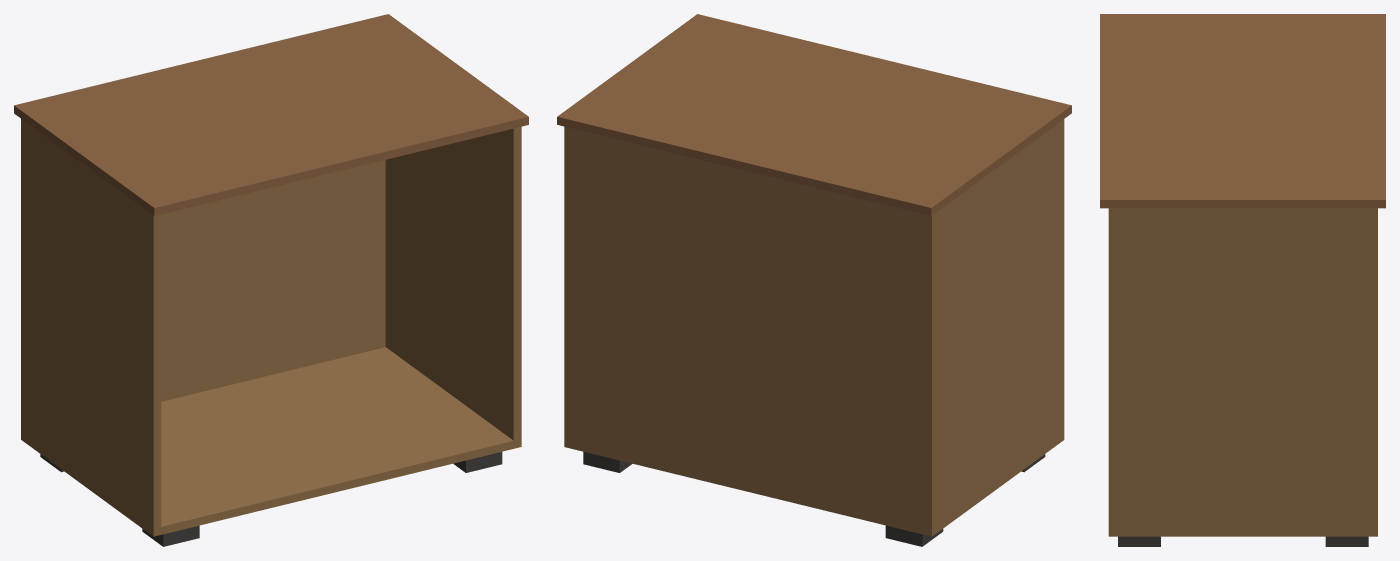
File: Cupboard_12_01.fbx
The picture shows the model from 3 angles, left to right: view 1: azimuth 30°, elevation 25°; view 2: azimuth 150°, elevation 25°; view 3: azimuth 270°, elevation 25°; orthographic projection.
Parts seen in each view (by area): view 1: Cupboard_12_01; view 2: Cupboard_12_01; view 3: Cupboard_12_01.
Boxes of the visible parts, x1=… form: Cupboard_12_01: x1=14, y1=14, x2=528, y2=546; Cupboard_12_01: x1=557, y1=14, x2=1071, y2=546; Cupboard_12_01: x1=1100, y1=14, x2=1385, y2=546.
Bounding box in the file's own units: 80.51 × 71.81 × 52.29.
